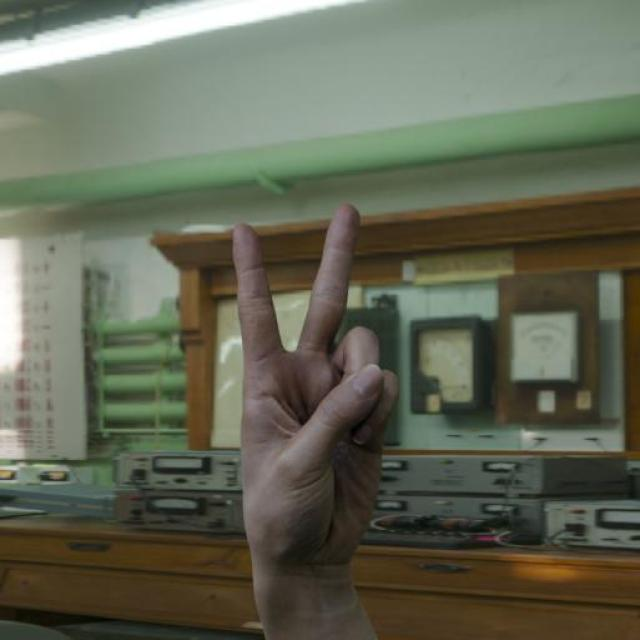V: (222, 191, 408, 583)
